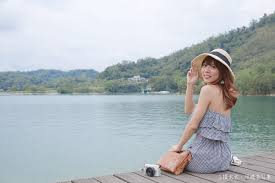people: (173, 47, 243, 171)
